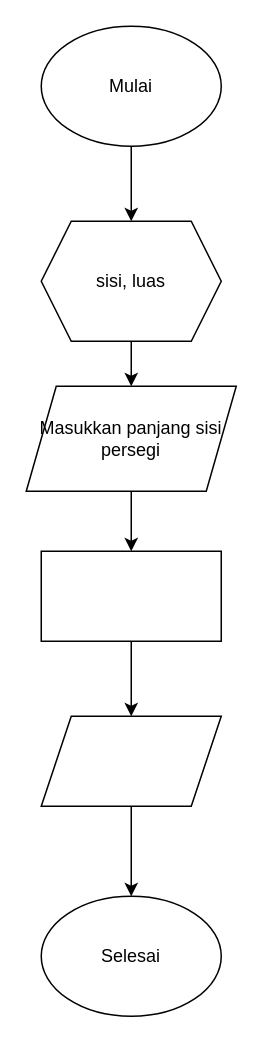
The diagram is 263 pixels wide and 1043 high, and some of its shapes have lost their labels. The centre of each missing label's shape, as x and y in pixels:
"Luas = sisi + sisi" belongs at pixel 130 595.
"Tampilkan luas persegi" belongs at pixel 130 760.
